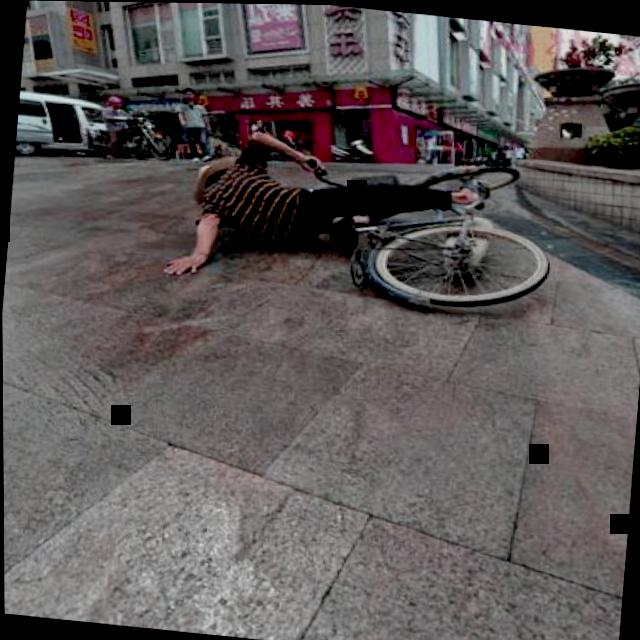Fall-Detected: (154, 106, 485, 308)
